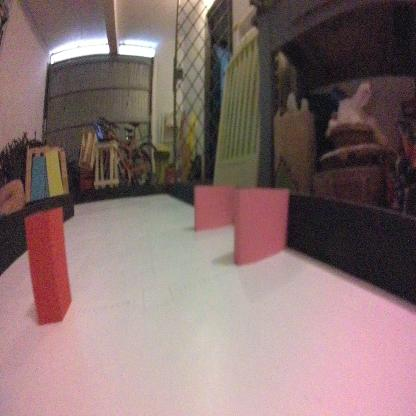magenta: (232, 185, 289, 267), (193, 182, 236, 227)
red: (23, 201, 74, 326)
